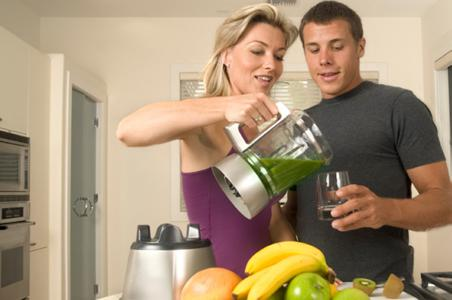person: (114, 5, 299, 280)
